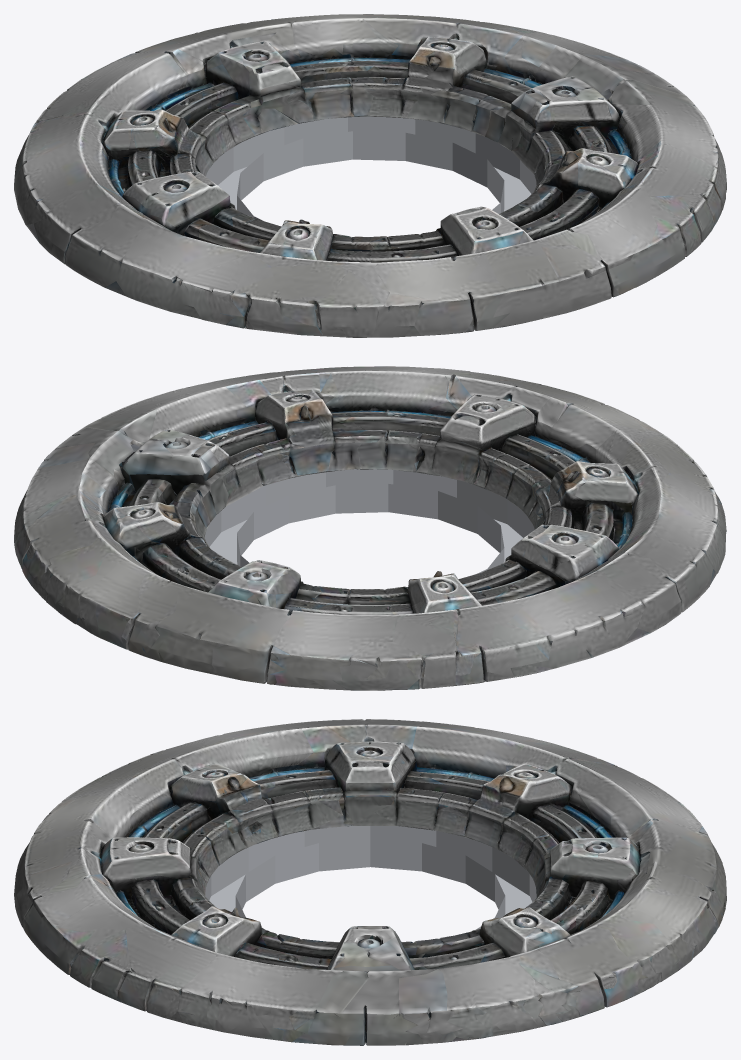
Rendered from ploughshare.glb.
The picture shows the model from 3 angles, top to bottom: view 1: azimuth 30°, elevation 25°; view 2: azimuth 150°, elevation 25°; view 3: azimuth 270°, elevation 25°; orthographic projection.
Parts seen in each view (by area): view 1: mesh_node; view 2: mesh_node; view 3: mesh_node.
Boxes of the visible parts, left/top/right/bottom form: mesh_node: left=14, top=14, right=726, bottom=337; mesh_node: left=14, top=366, right=726, bottom=690; mesh_node: left=14, top=719, right=726, bottom=1045.
Bounding box in the file's own units: 45.5 × 5.72 × 45.5.
2 materials, 1 textured.
